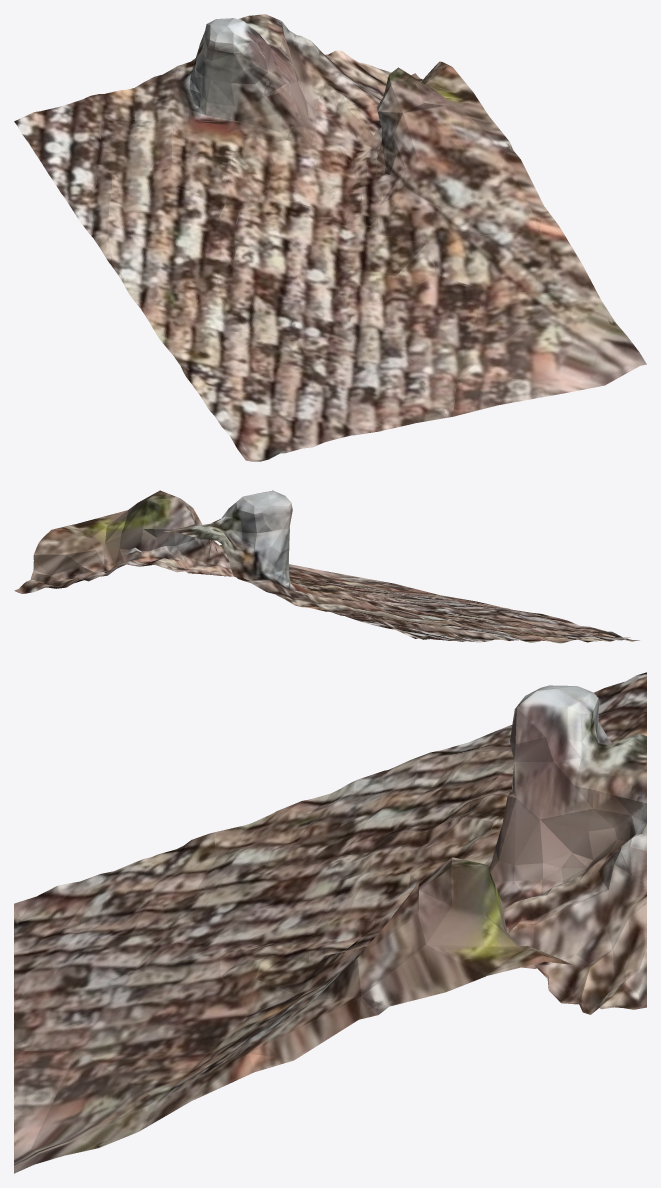
3 renders of one model, top to bottom at view 1: azimuth 30°, elevation 25°; view 2: azimuth 150°, elevation 25°; view 3: azimuth 270°, elevation 25°, orthographic. The views are drawn at different scales.
Size of the model in its own units: 3.35 by 2.06 by 3.35.
3 materials, 3 textured.
